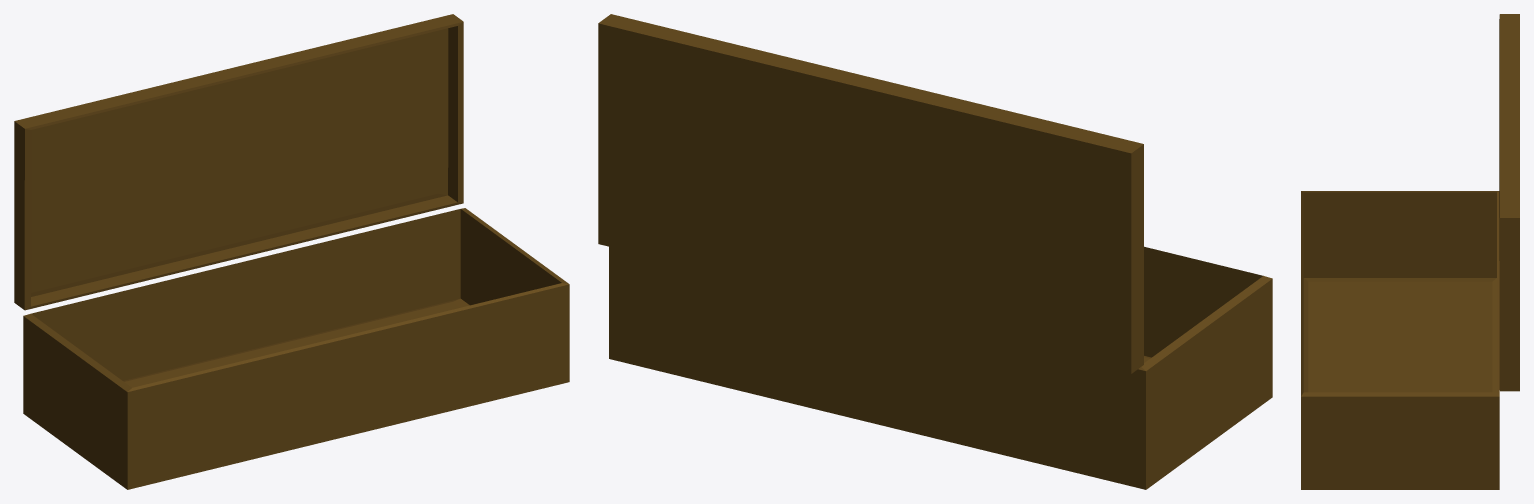
The model's file is Chest.fbx.
3 renders of one model, left to right at view 1: azimuth 30°, elevation 25°; view 2: azimuth 150°, elevation 25°; view 3: azimuth 270°, elevation 25°, orthographic. The views are drawn at different scales.
Parts seen in each view (by area): view 1: Chest; view 2: Chest; view 3: Chest.
Part boxes in pixels (box(x1,y1,x2,y2)): Chest: box(14, 14, 569, 489); Chest: box(598, 14, 1272, 489); Chest: box(1301, 14, 1519, 489).
Bounding box in the file's own units: 1.22 × 0.7523 × 0.5507.
